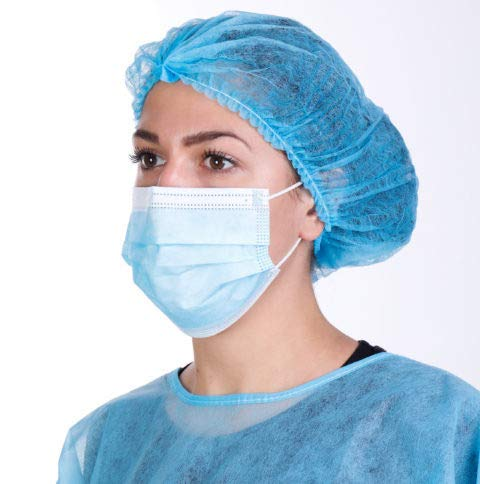with_mask_and_cap: (128, 24, 343, 338)
